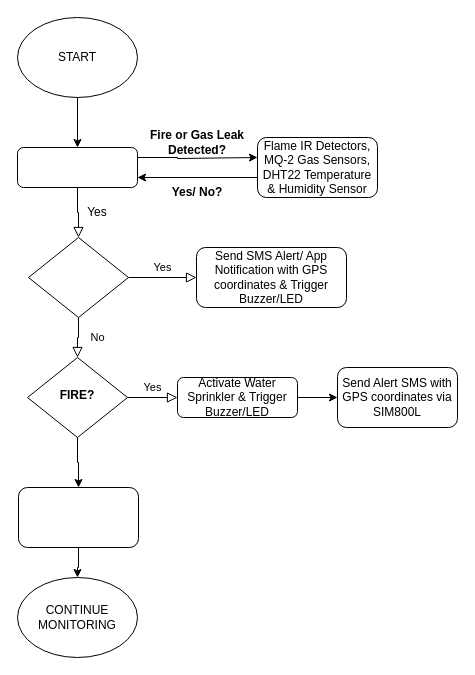
Some shapes in this 475 by 675 pixel diagram are drawn without their labels. The shapes that lost their labels are listed below. From the top down, each one's box as (x1, y1, x2, y2) in pixels, then its label:
(16, 146, 138, 188): ESP32-Cam
(28, 236, 128, 318): GAS LEAK?
(18, 486, 138, 548): Send Real-Time Data to a Cloud Server or App
